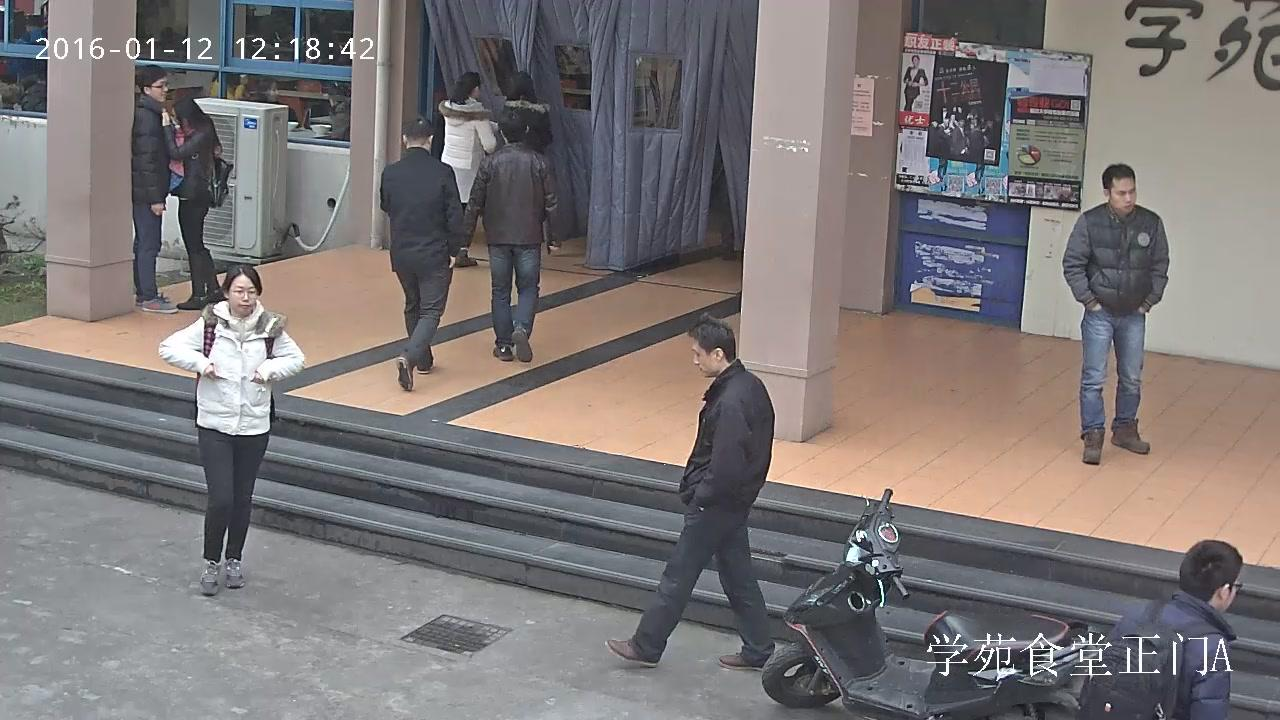person: (604, 311, 775, 668), (158, 264, 305, 595), (1062, 163, 1169, 464), (1078, 540, 1244, 720), (463, 111, 562, 361), (380, 116, 464, 394), (161, 96, 234, 310), (431, 71, 499, 268), (130, 63, 181, 314), (496, 70, 553, 156), (10, 18, 48, 77), (903, 54, 928, 112), (328, 81, 351, 141)
